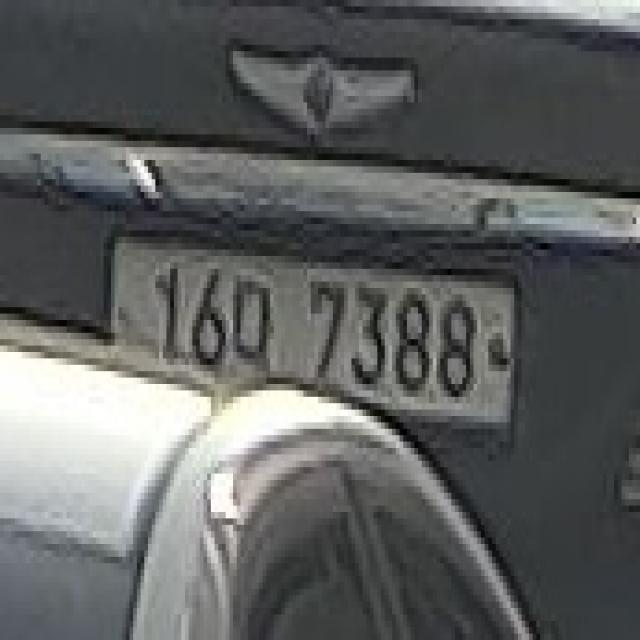1: (144, 256, 189, 410)
3: (348, 269, 392, 403)
6: (189, 256, 229, 371)
7: (303, 262, 348, 410)
8: (433, 275, 481, 416), (392, 275, 433, 410)
da: (230, 262, 282, 384)
license_plate: (100, 224, 529, 467)
